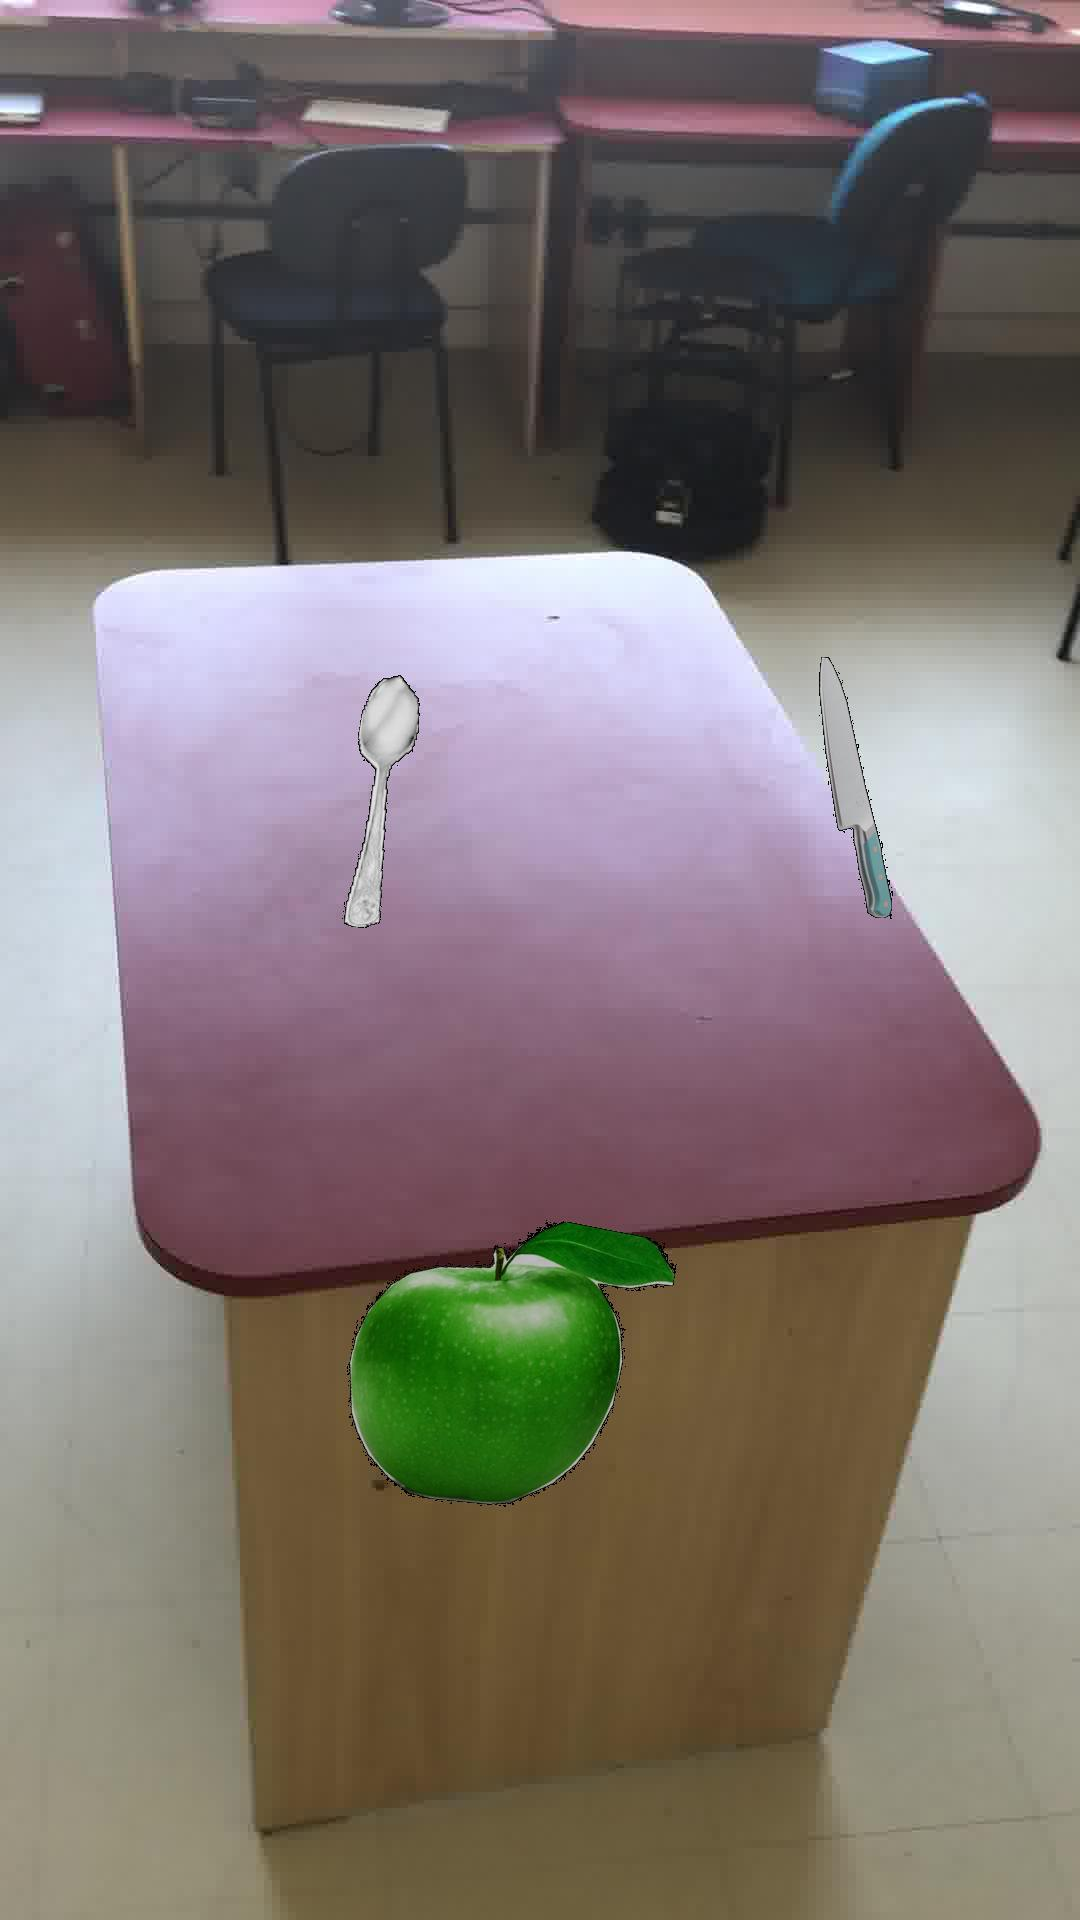green apple: (345, 1220, 674, 1503)
knife: (818, 655, 890, 918)
spoon: (343, 674, 418, 927)
